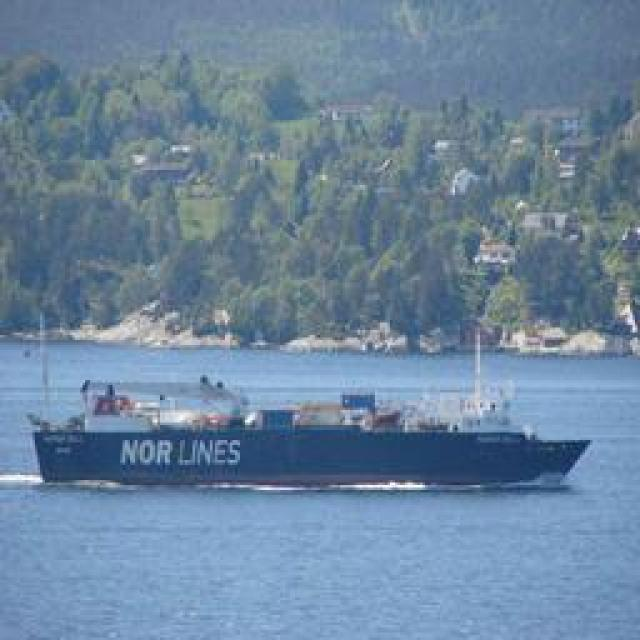ship2: (22, 310, 591, 490)
